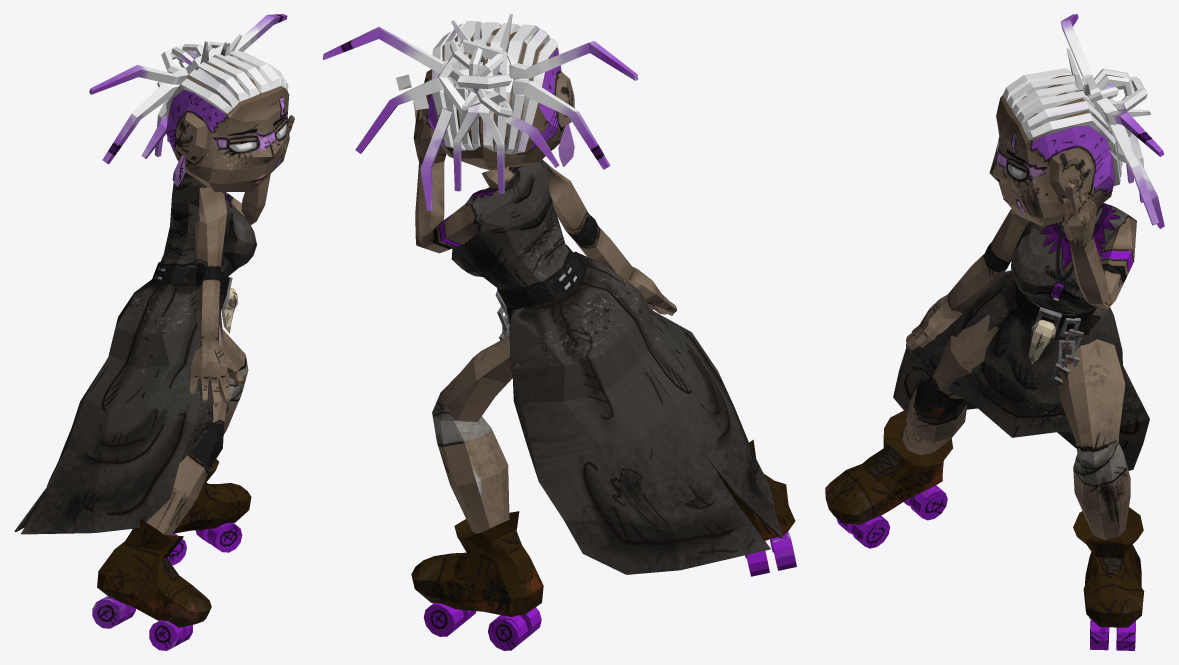
The model's file is bruja_000075.obj.
3 renders of one model, left to right at view 1: azimuth 30°, elevation 25°; view 2: azimuth 150°, elevation 25°; view 3: azimuth 270°, elevation 25°, orthographic. The views are drawn at different scales.
Parts seen in each view (by area): view 1: Bruja_Plane.001; view 2: Bruja_Plane.001; view 3: Bruja_Plane.001.
Boxes of the visible parts, left/top/right/bottom form: Bruja_Plane.001: left=14, top=14, right=294, bottom=650; Bruja_Plane.001: left=323, top=14, right=796, bottom=650; Bruja_Plane.001: left=825, top=14, right=1164, bottom=650.
Bounding box in the file's own units: 10.17 × 15.4 × 8.13.
